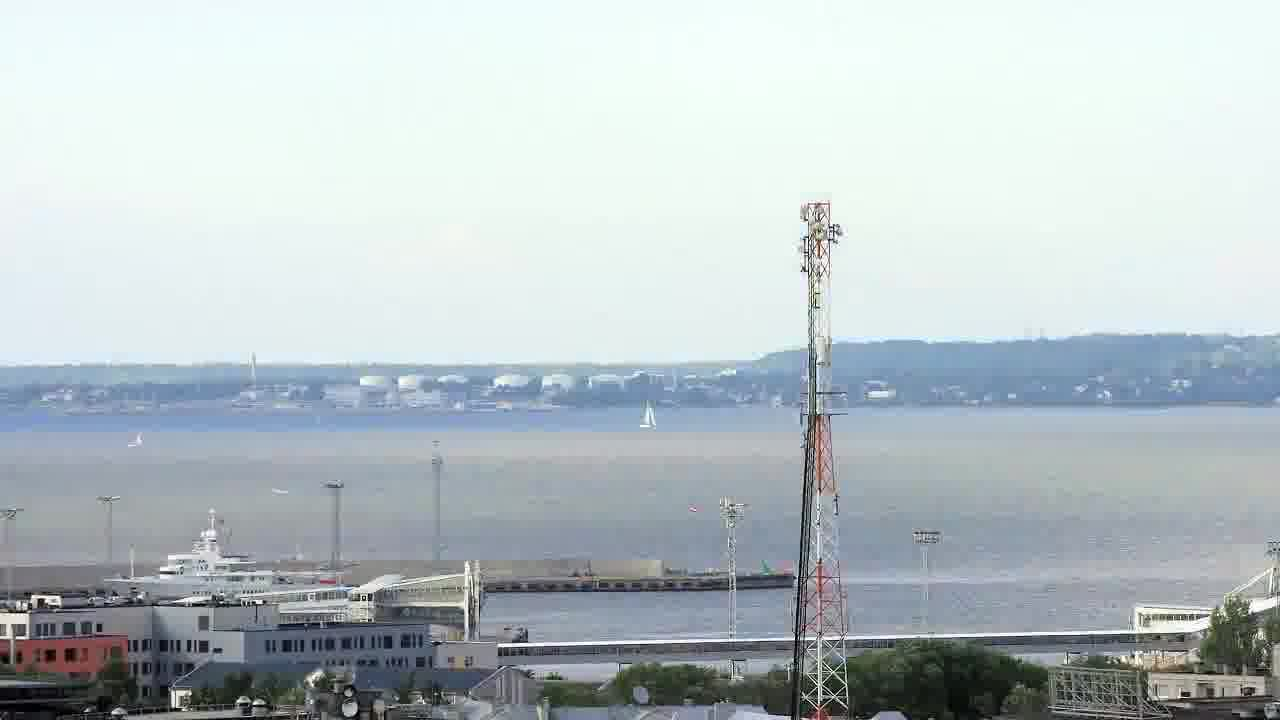type-2: (620, 385, 669, 444)
type-3: (88, 507, 346, 605)
